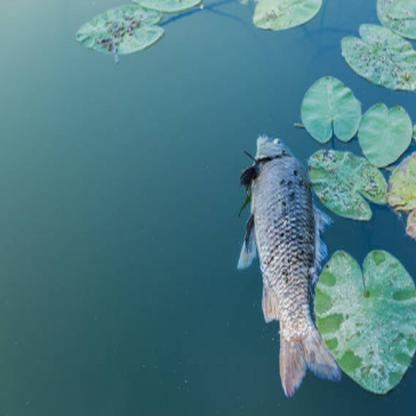deceased fish: (240, 127, 345, 397)
